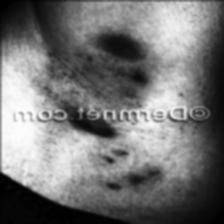Non-Cancerous Skin Condition: (94, 146, 162, 198), (93, 35, 144, 58), (76, 120, 108, 136)
